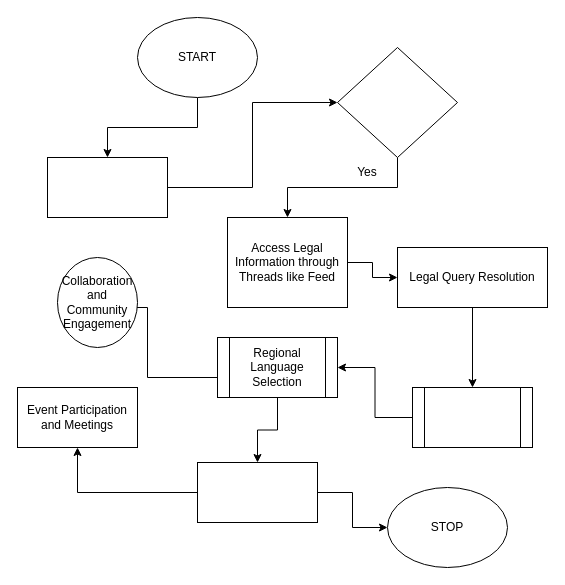
Image size: 565x585. Some labels were removed from this diagram. Here are the shapes that lost their labels. From the top down, the box of each, then its label:
(336, 46, 458, 158): KYC Verification Successful?
(46, 156, 168, 218): User Registration and KYC Verification
(412, 386, 532, 448): Voice-Assisted Navigation
(196, 462, 318, 522): Legal Education and Innovation
